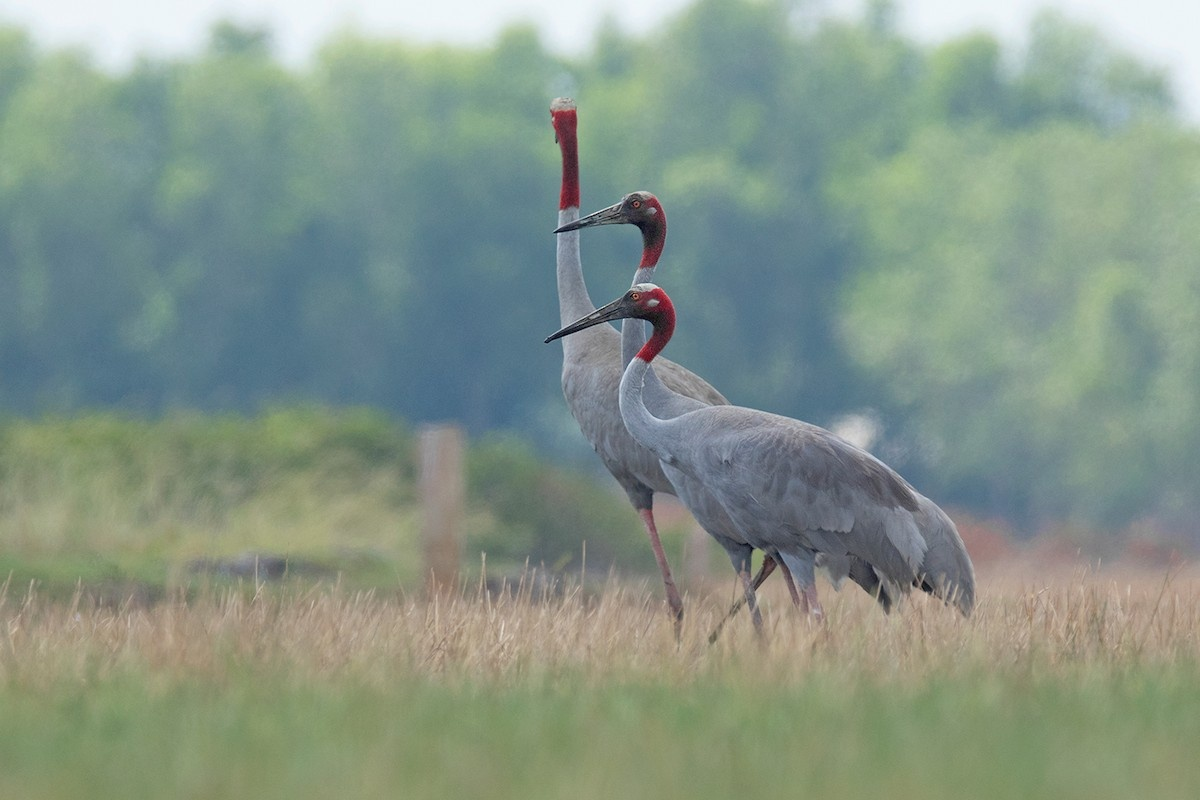crane: (552, 281, 980, 665), (568, 179, 689, 294), (546, 91, 597, 308)
